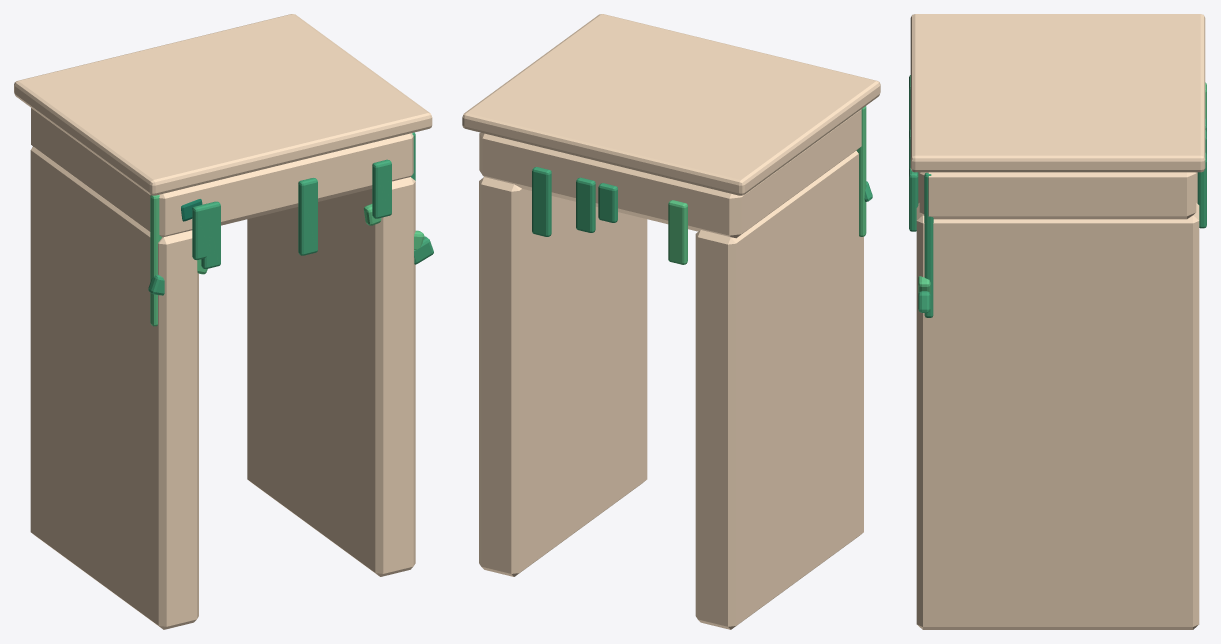
Rendered from ruin-portal.glb.
The picture shows the model from 3 angles, left to right: view 1: azimuth 30°, elevation 25°; view 2: azimuth 150°, elevation 25°; view 3: azimuth 270°, elevation 25°; orthographic projection. The views are drawn at different scales.
Parts seen in each view (by area): view 1: ruin-portal; view 2: ruin-portal; view 3: ruin-portal.
Part boxes in pixels (x1=…): ruin-portal: x1=14, y1=14, x2=433, y2=629; ruin-portal: x1=462, y1=14, x2=880, y2=629; ruin-portal: x1=909, y1=14, x2=1206, y2=629.
Size of the model in its own units: 1.14 by 1.73 by 0.97.
Materials: 1 (1 with a texture image).
